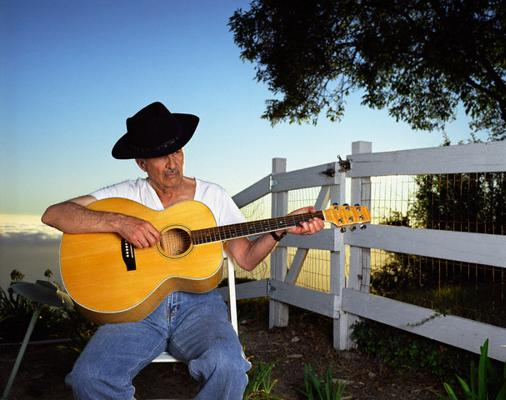person: (41, 102, 325, 400)
